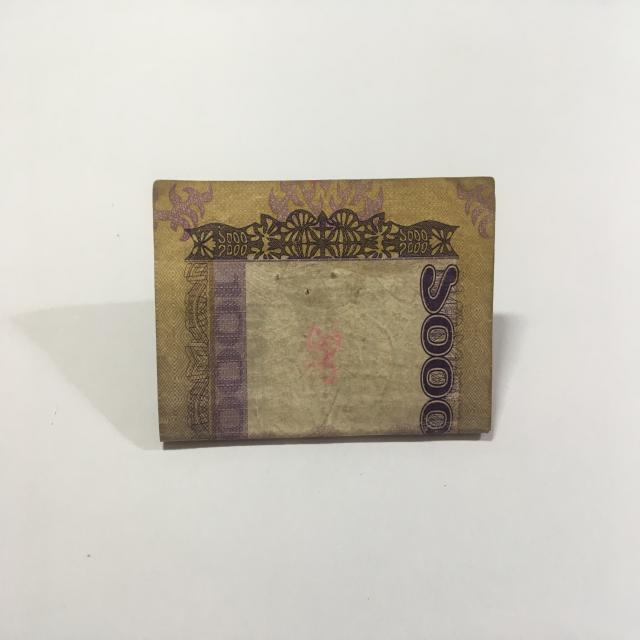Taka: (144, 167, 501, 447)
